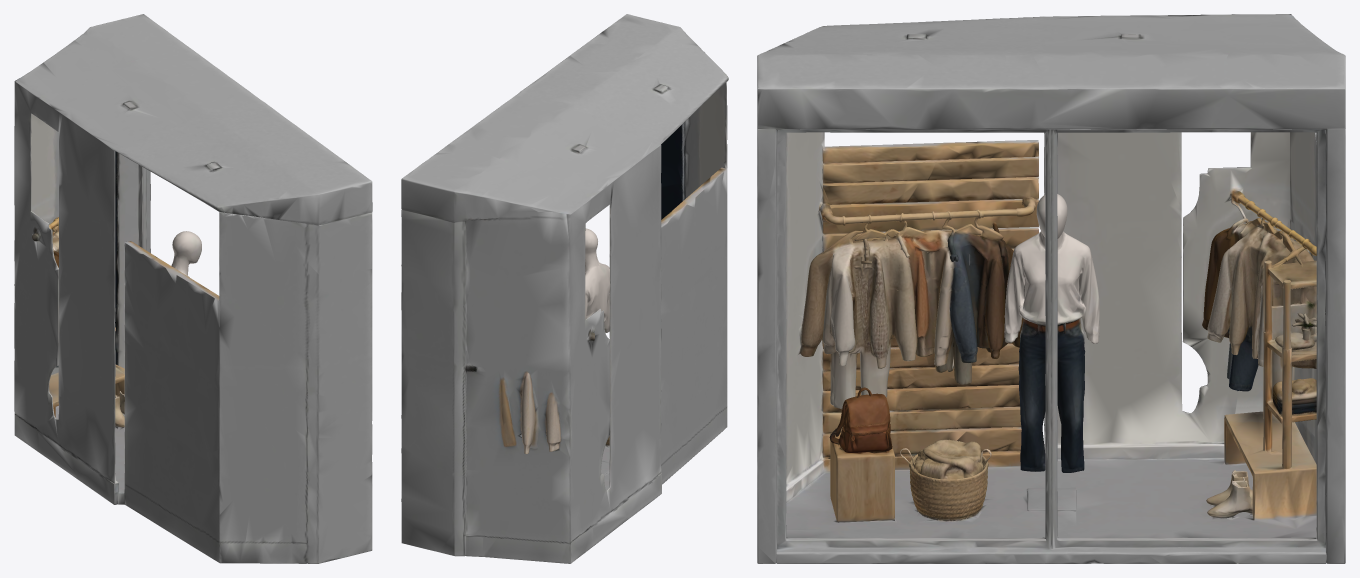
Rendered from frontelw.glb.
3 renders of one model, left to right at view 1: azimuth 30°, elevation 25°; view 2: azimuth 150°, elevation 25°; view 3: azimuth 270°, elevation 25°, orthographic. The views are drawn at different scales.
Parts seen in each view (by area): view 1: tripo_node_15f023c5-fded-41e5-b31d-ea46dc93f6ba; view 2: tripo_node_15f023c5-fded-41e5-b31d-ea46dc93f6ba; view 3: tripo_node_15f023c5-fded-41e5-b31d-ea46dc93f6ba.
Boxes of the visible parts, x1=… form: tripo_node_15f023c5-fded-41e5-b31d-ea46dc93f6ba: x1=14, y1=14, x2=372, y2=563; tripo_node_15f023c5-fded-41e5-b31d-ea46dc93f6ba: x1=401, y1=14, x2=728, y2=563; tripo_node_15f023c5-fded-41e5-b31d-ea46dc93f6ba: x1=757, y1=14, x2=1345, y2=563.
Bounding box in the file's own units: 0.9148 × 2.1 × 2.35.
Materials: 1 (1 with a texture image).
